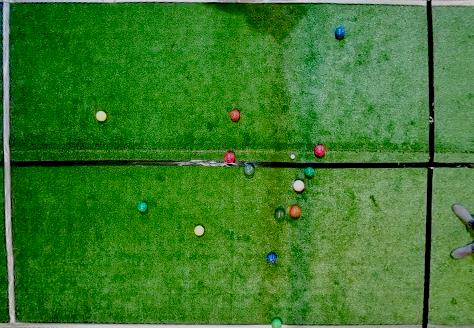blue: (266, 252, 277, 264), (335, 26, 345, 39)
green: (136, 201, 147, 213), (304, 166, 315, 178), (274, 208, 285, 220), (244, 164, 254, 177), (271, 317, 284, 327)
red: (223, 151, 235, 164), (292, 180, 305, 192), (289, 205, 301, 217), (314, 145, 325, 157), (230, 110, 240, 121)
vline: (422, 1, 474, 327), (0, 1, 20, 327)
white: (290, 154, 295, 159)
yellow: (194, 225, 205, 236), (95, 111, 106, 121)
